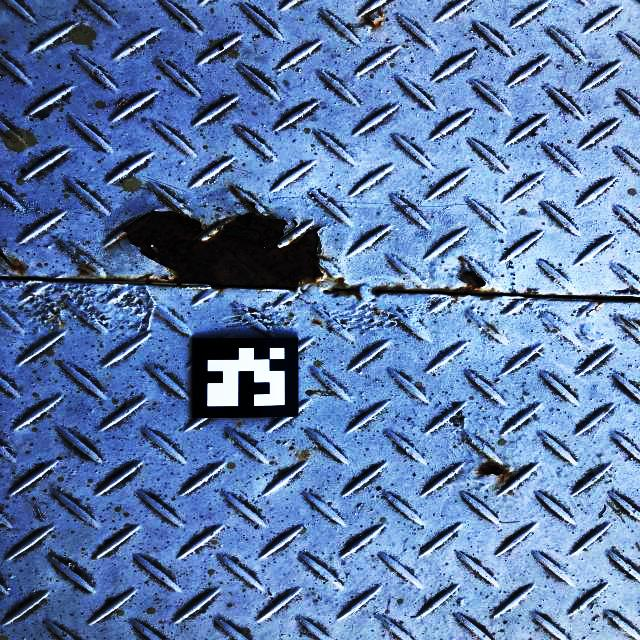Corrosion: (123, 211, 321, 288), (459, 269, 487, 288), (0, 253, 26, 272), (479, 462, 505, 476), (362, 14, 381, 26), (245, 201, 257, 209)
